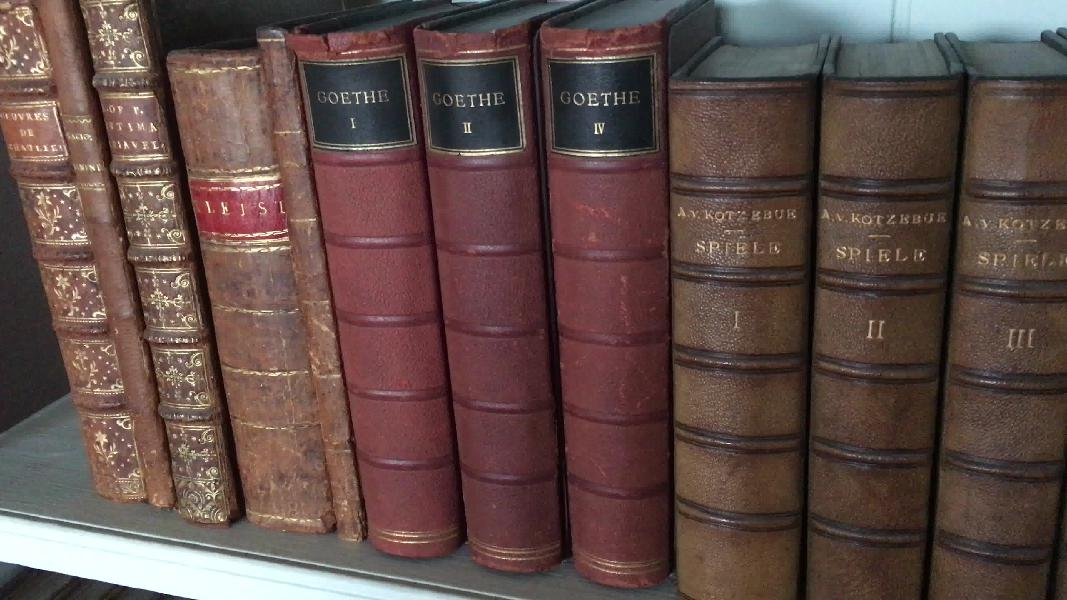Aa6-10: (248, 23, 392, 552)
Aa6-11_13: (281, 25, 692, 596)
Aa6-14_17: (662, 59, 1067, 600)
Aa6-7: (38, 1, 179, 517)
Aa6-8: (71, 1, 233, 525)
Aa6-9: (152, 32, 358, 547)
